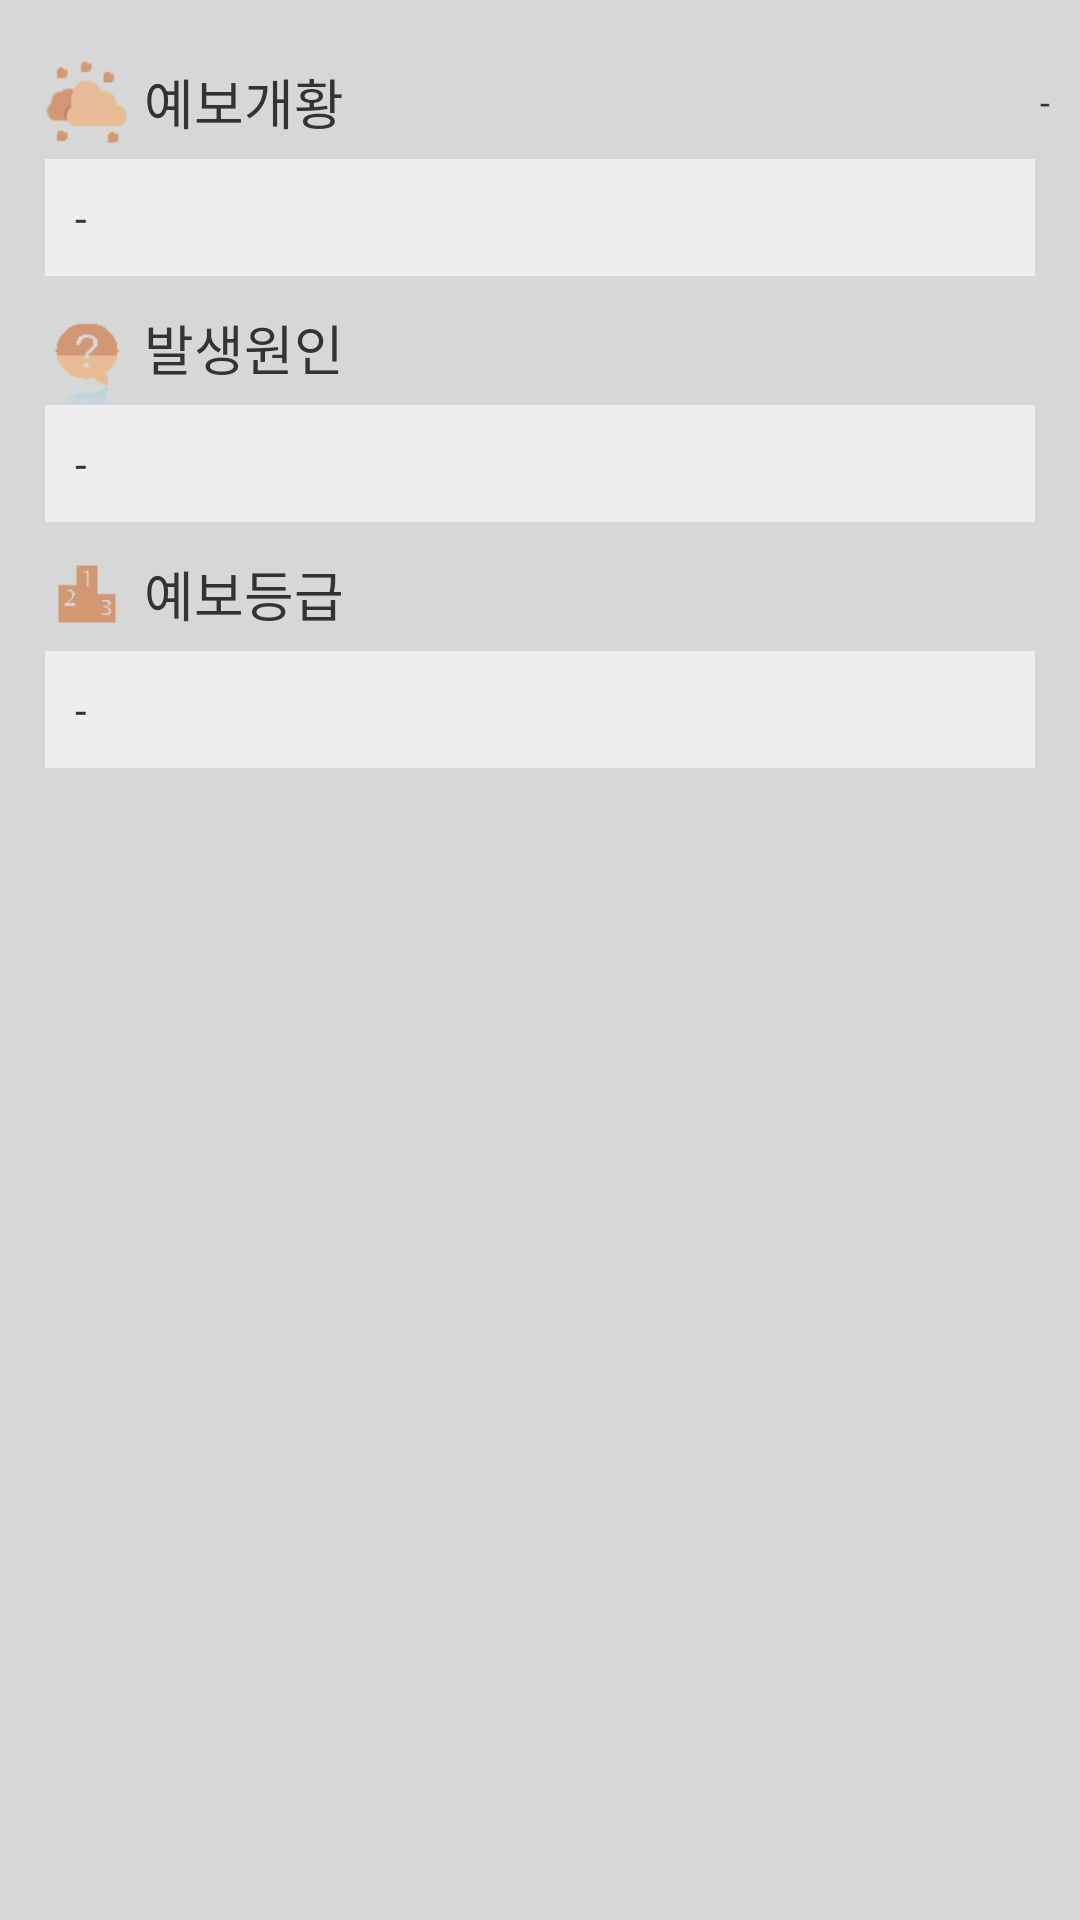

Screen size 1080 x 1920. Icon name, then its box in pixels as bbox(x1, y1, x2, y2):
row informcause: bbox(55, 324, 119, 394)
row informgrade: bbox(58, 565, 116, 623)
row informoverall: bbox(46, 61, 127, 143)
